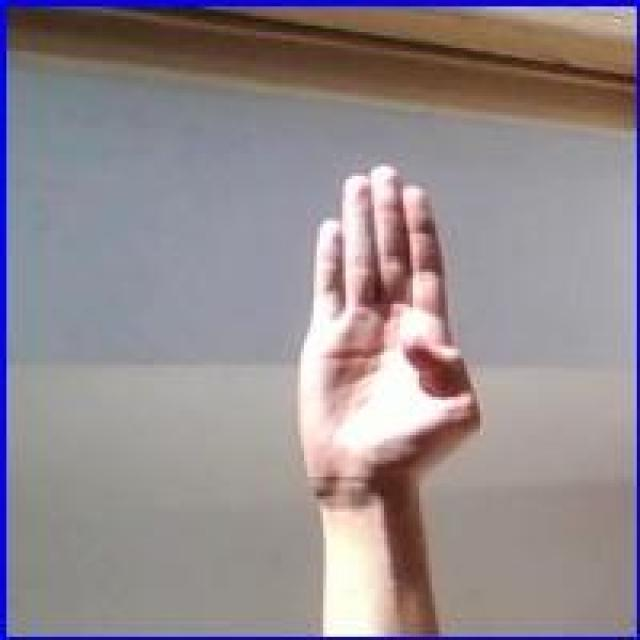B: (293, 160, 488, 525)
